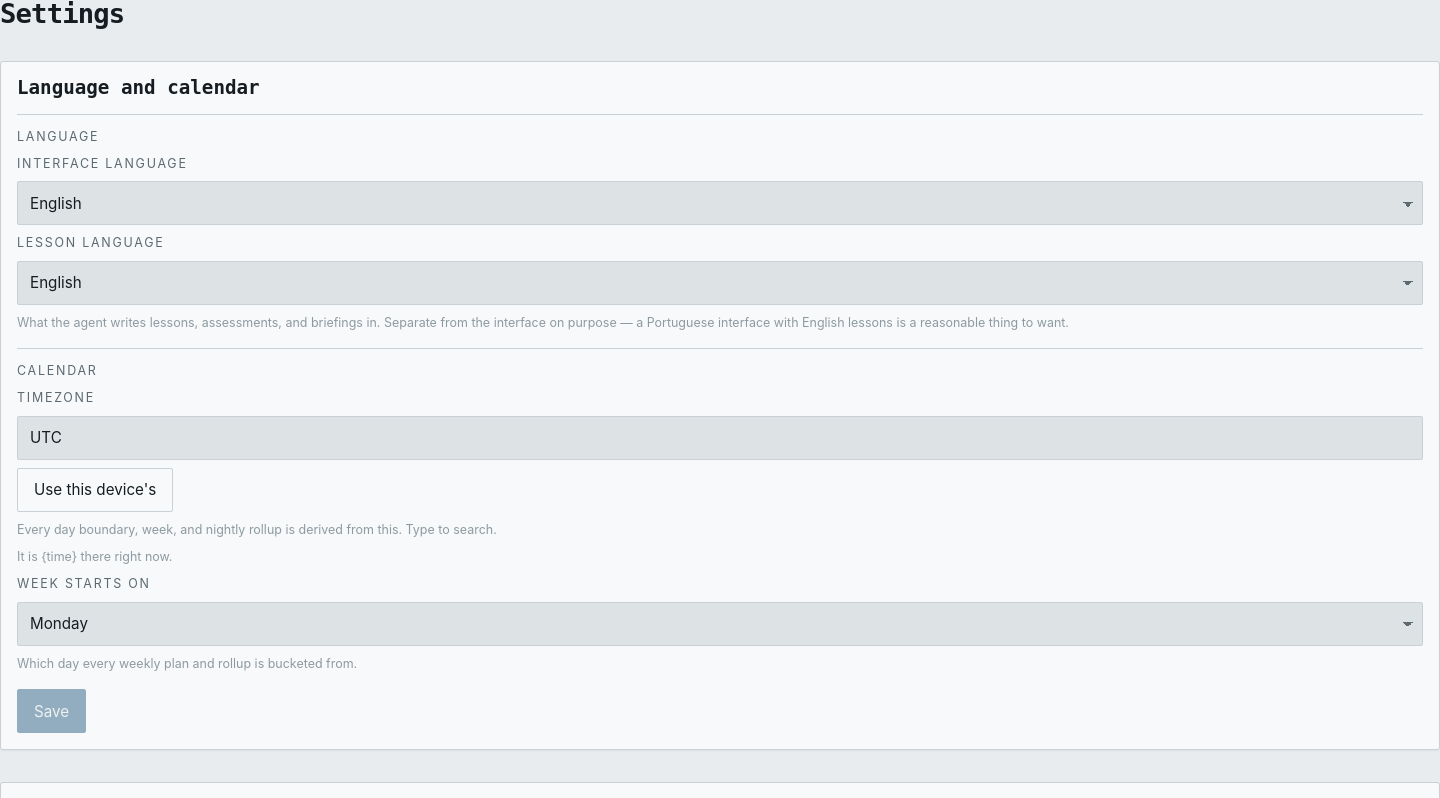
the timezone picker (FR-L5) › warns that a calendar change re-buckets what is already on screen
This screenshot has width=1440, height=798.
Select "Sunday" in the dropdown labelled "Week starts on" at (720, 624), box [17, 602, 1423, 646]
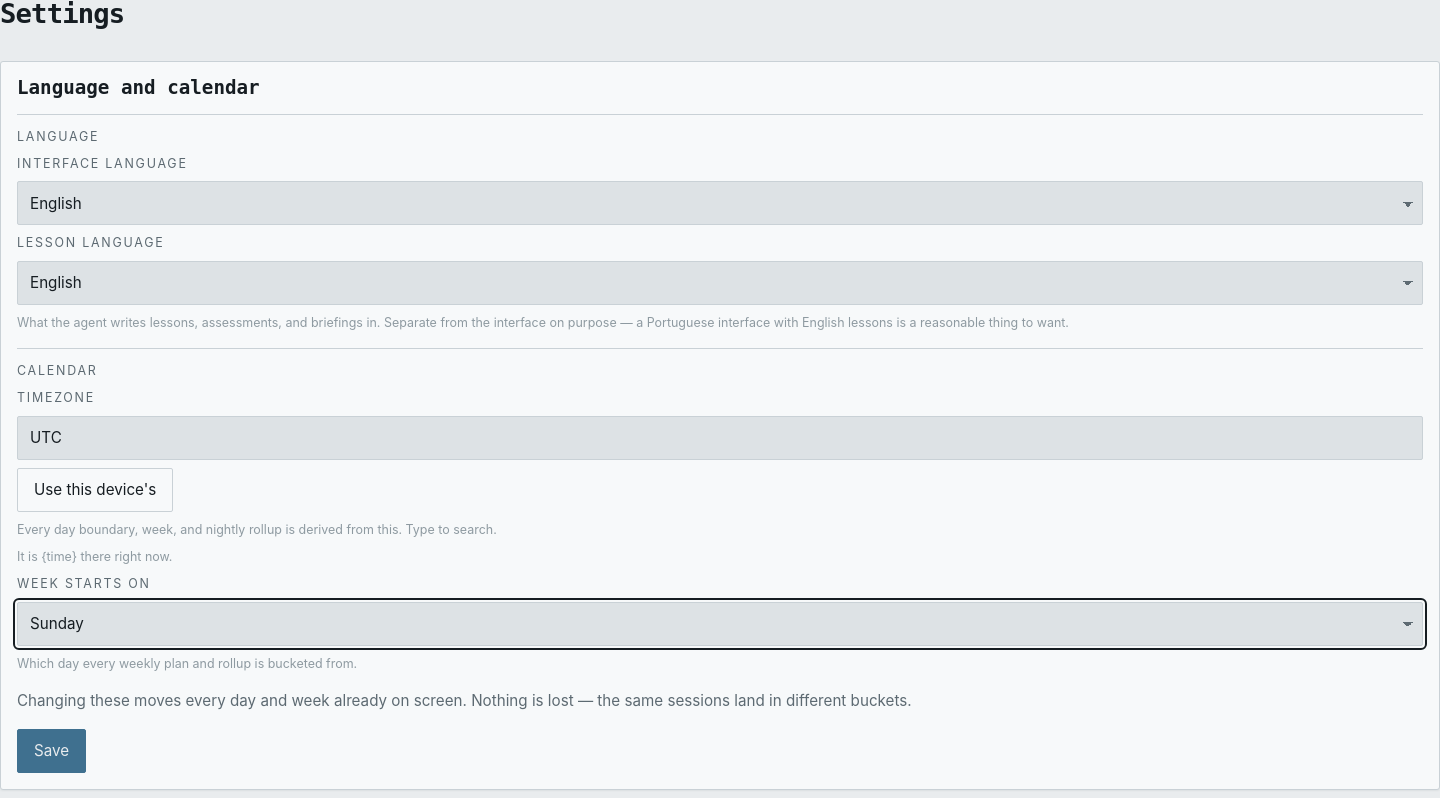
Expected: the text "moves every day and week already on screen" is shown, [17, 691, 912, 710]
